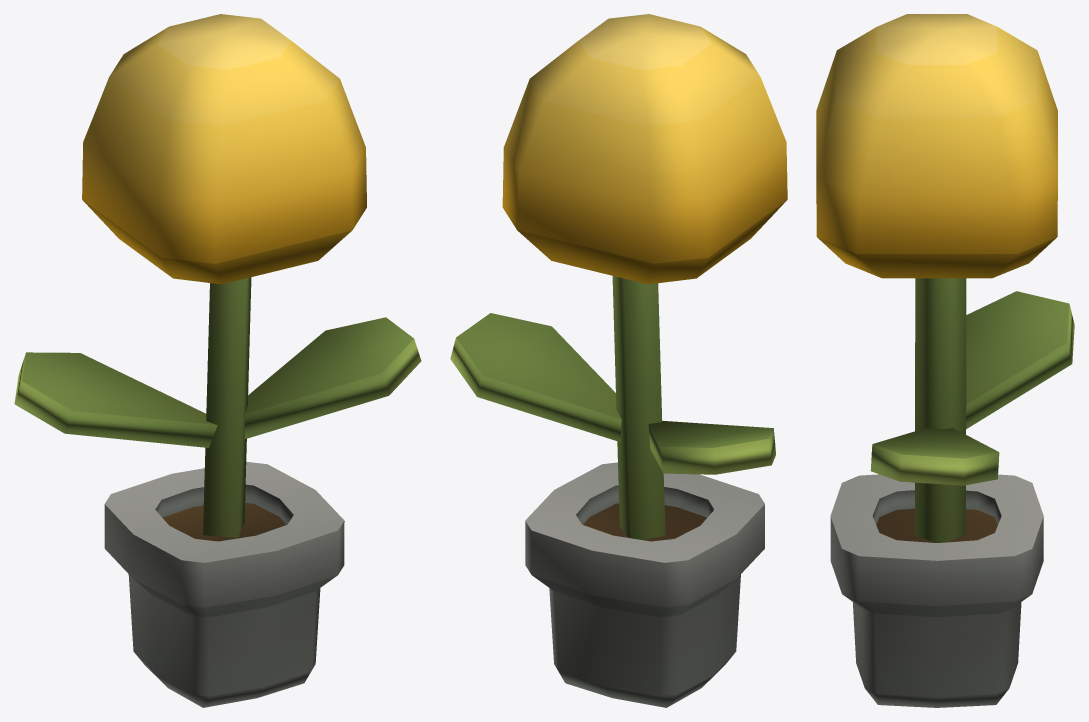
File: flower_2_yellow_pot.fbx
The picture shows the model from 3 angles, left to right: view 1: azimuth 30°, elevation 25°; view 2: azimuth 150°, elevation 25°; view 3: azimuth 270°, elevation 25°; orthographic projection.
Visible parts, largest first — view 1: flower_2_yellow_pot; view 2: flower_2_yellow_pot; view 3: flower_2_yellow_pot.
Part boxes in pixels (x1=…): flower_2_yellow_pot: x1=14, y1=14, x2=421, y2=707; flower_2_yellow_pot: x1=450, y1=14, x2=787, y2=707; flower_2_yellow_pot: x1=816, y1=14, x2=1074, y2=707.
Size of the model in its own units: 56.55 by 98.93 by 35.68.
